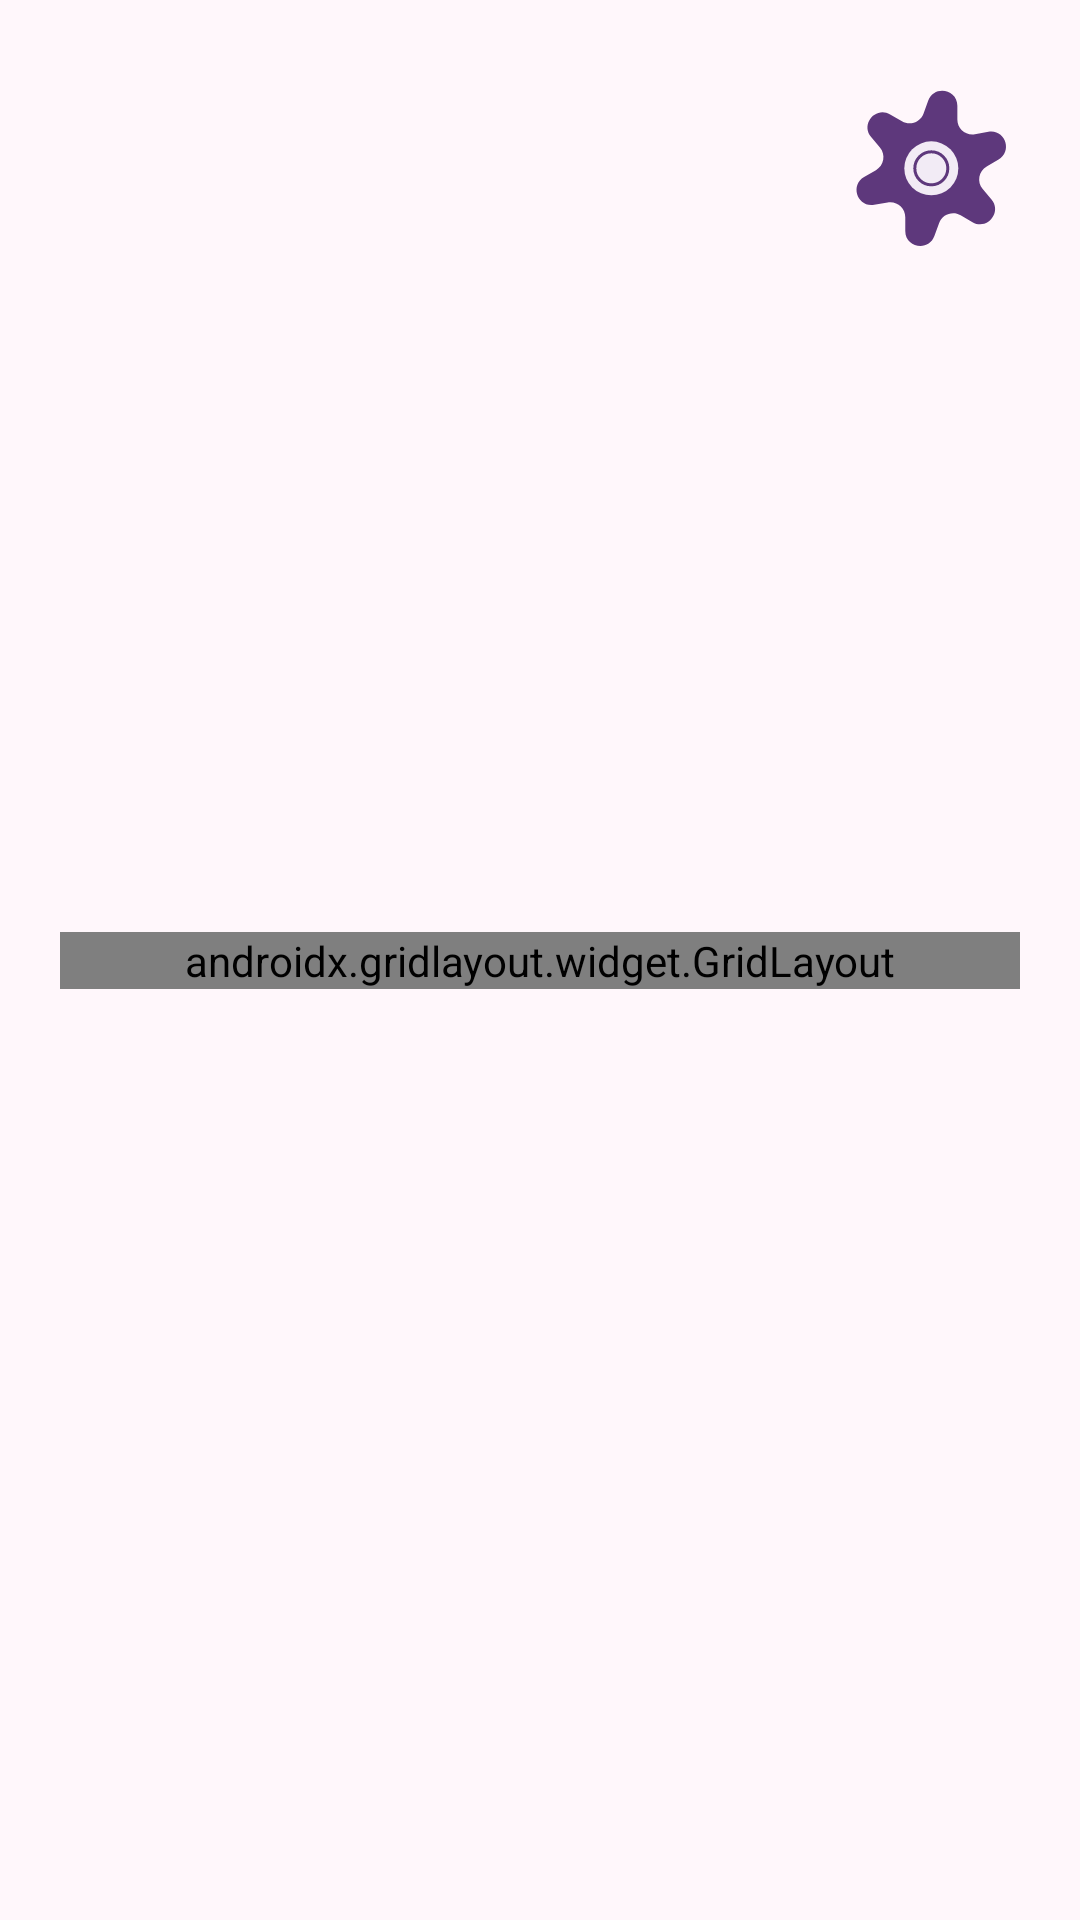

Where to tap for icons on this 1080×1920 app screen, as [x,y]:
Setting: [931,168]
